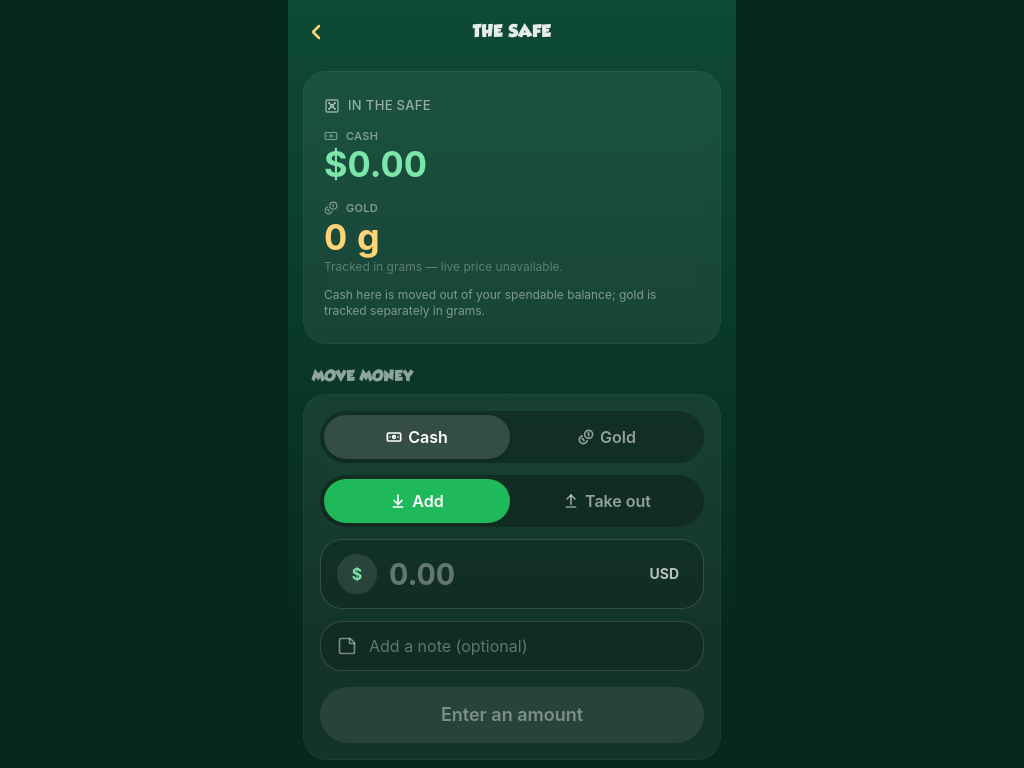
it: Safe › shows the LBP estimate and grouped CTA for cash entered in LBP
Click the button with aria-label "Switch currency".
click(664, 574)  # box x1=642 y1=560 x2=687 y2=588
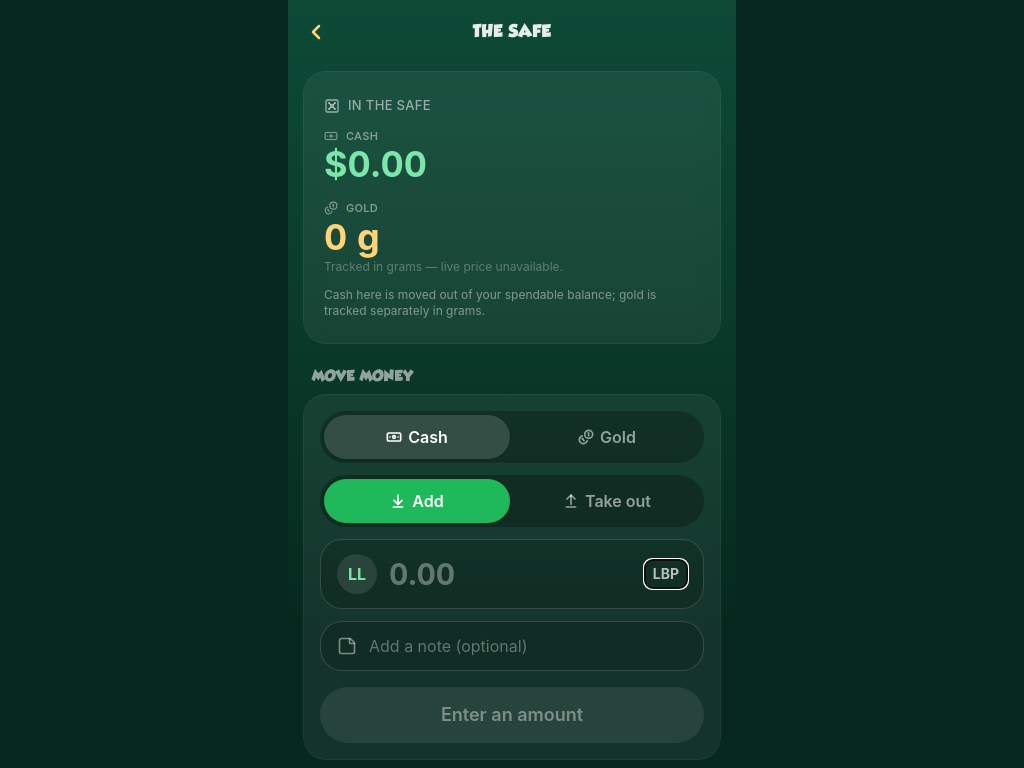
Type "1234567.5" into the field named "Amount".
click(511, 574); type("1234567.5")  # box x1=389 y1=556 x2=633 y2=592
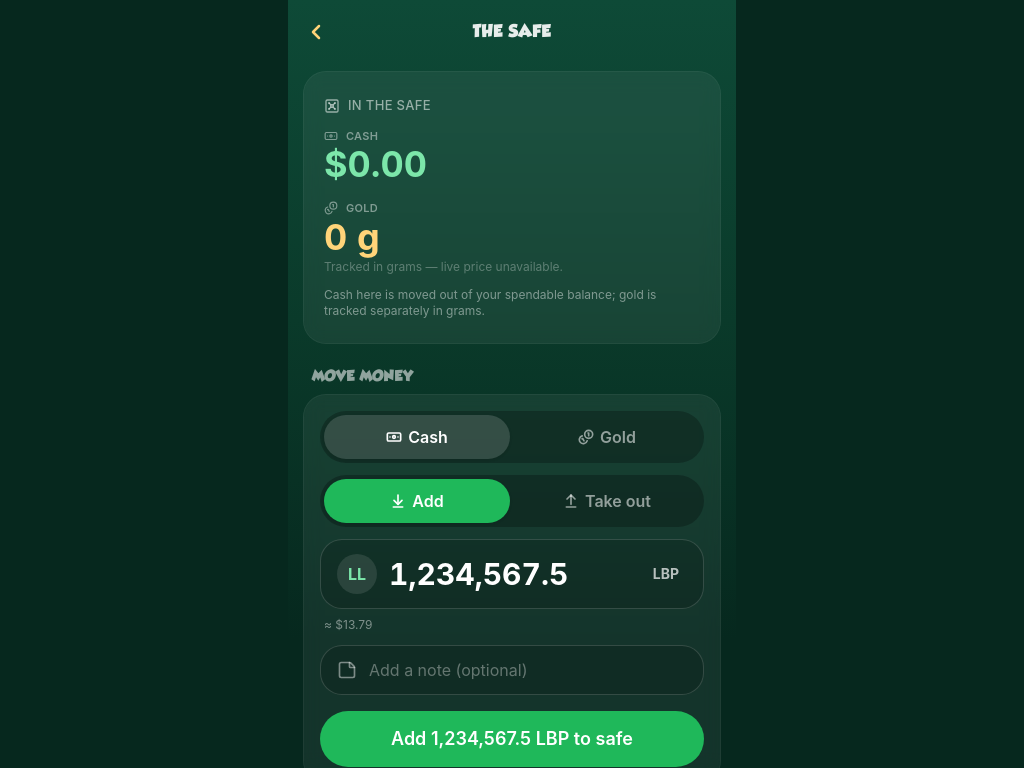
Check: the text "≈ $13.79" is shown, box x1=324 y1=616 x2=372 y2=632
Check: the button "Add 1,234,567.5 LBP to safe" is shown, box x1=320 y1=710 x2=704 y2=766
